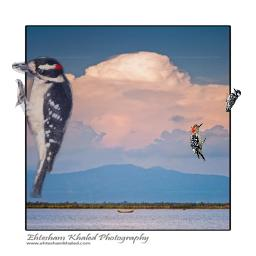Woodpecker: (12, 54, 76, 198), (189, 122, 206, 164), (221, 87, 241, 112)
